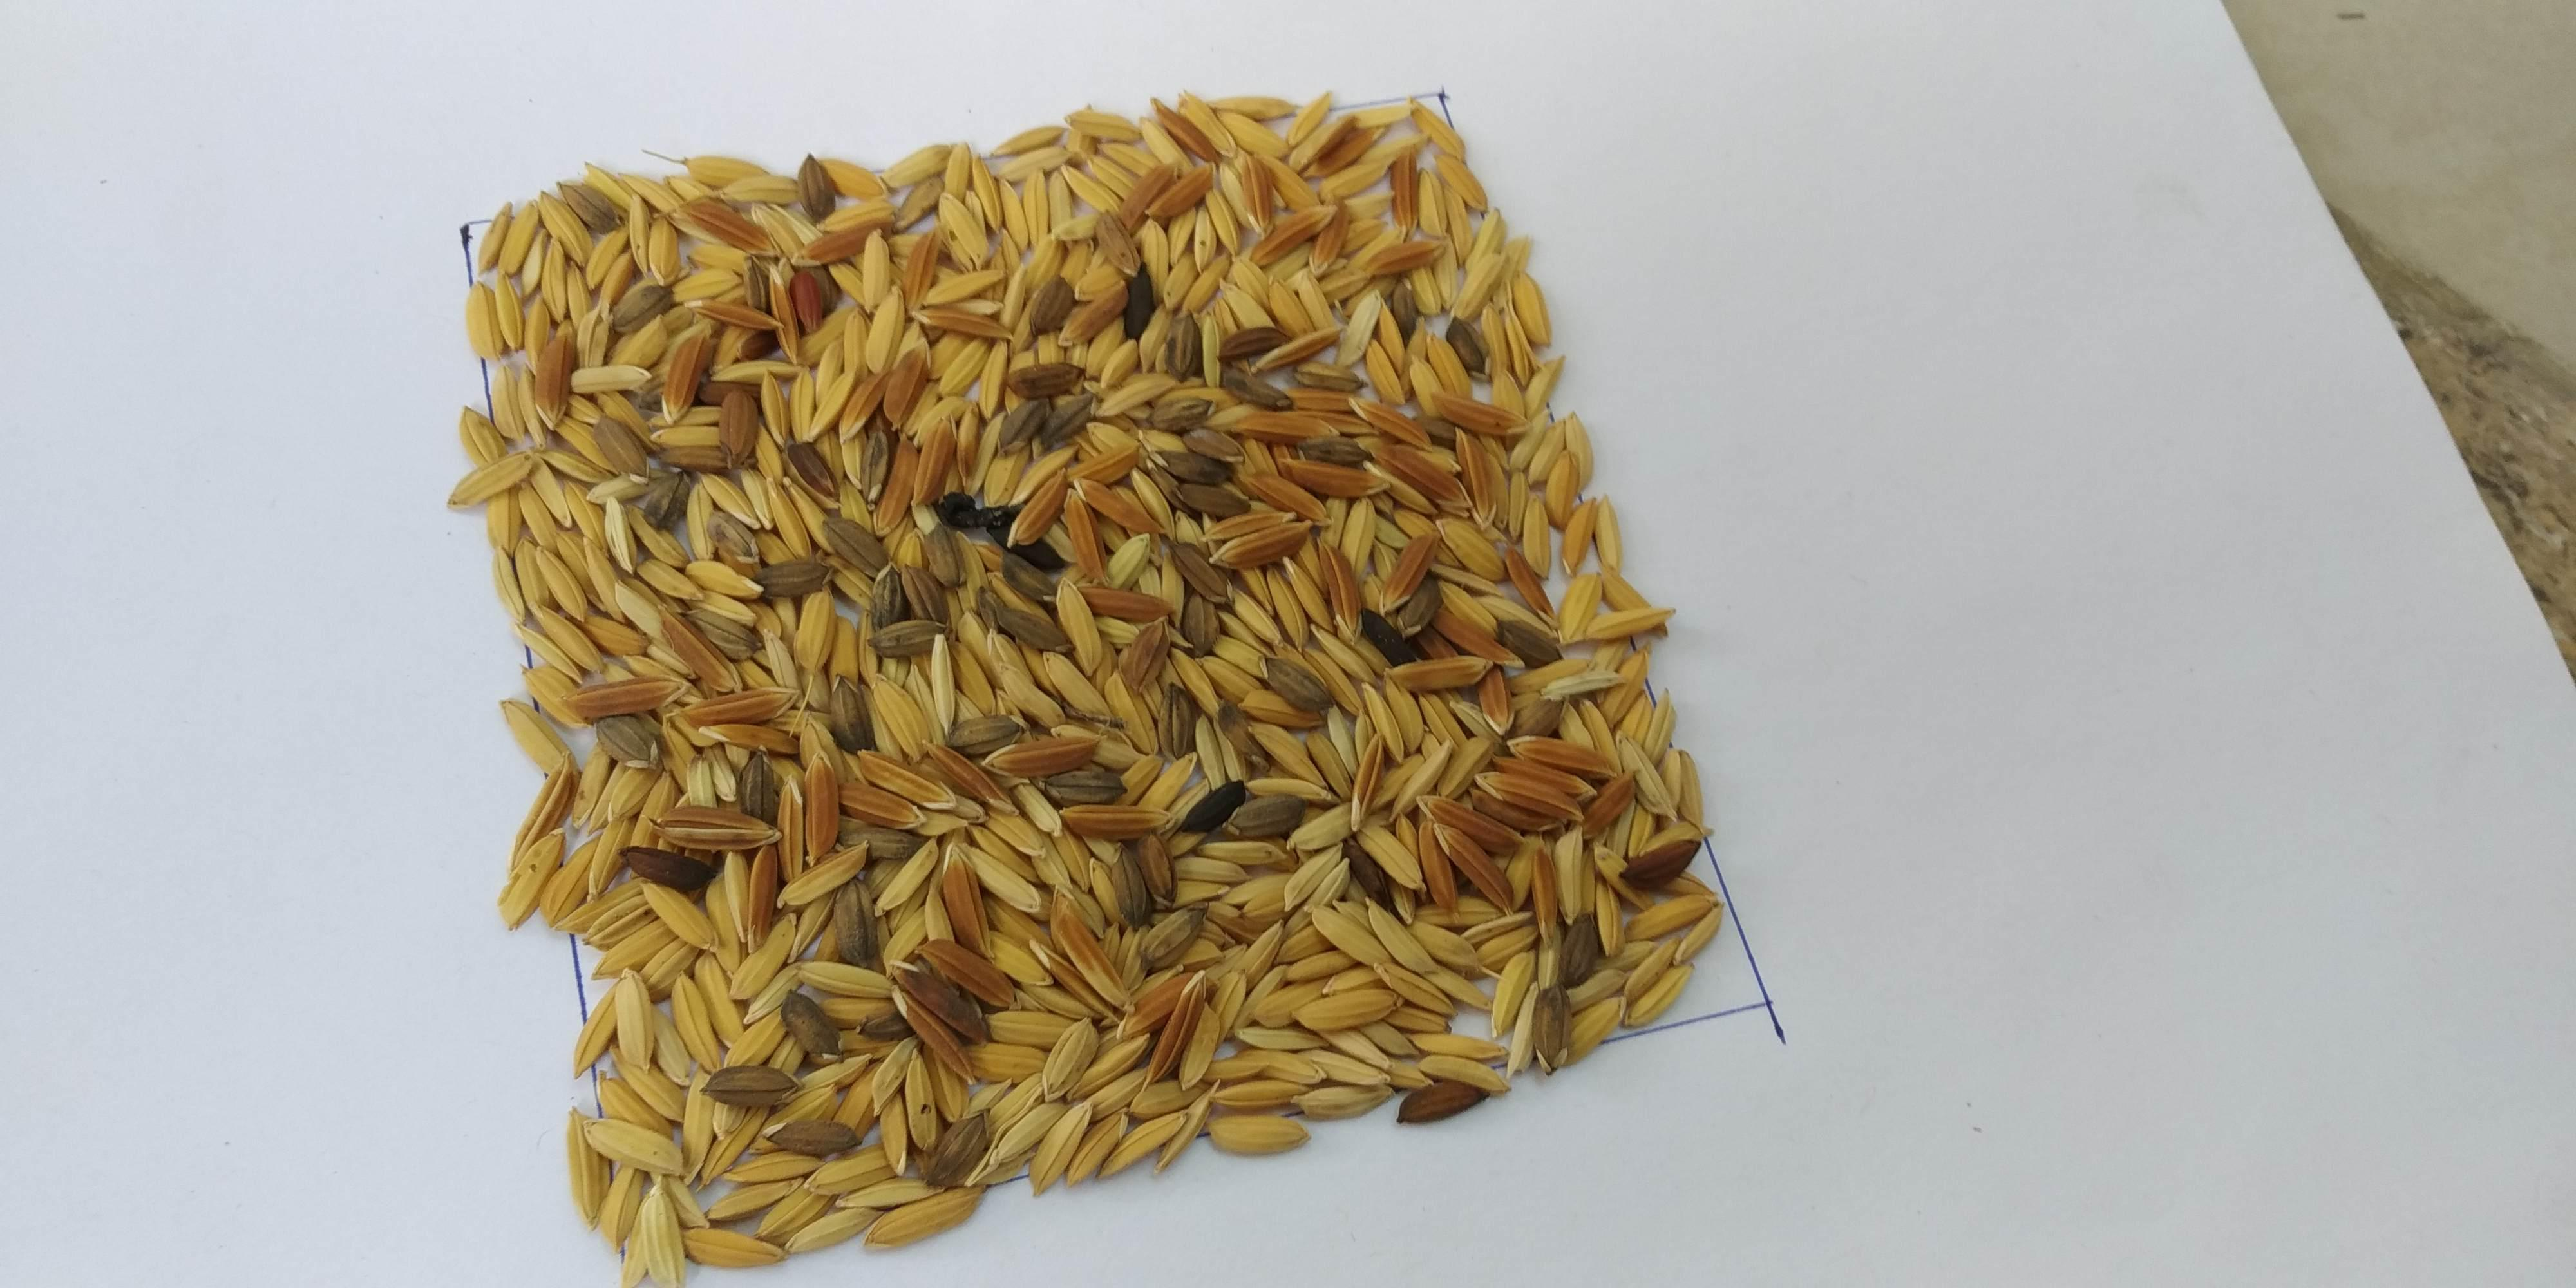impure: (588, 237, 1492, 1076)
